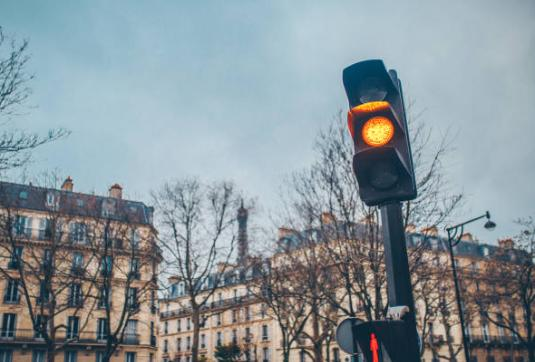yellow_light: (342, 59, 416, 204)
